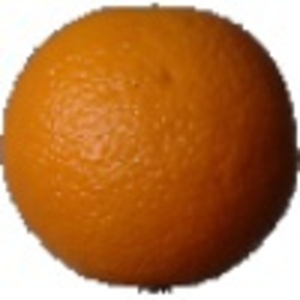laranja: (3, 5, 299, 297)
